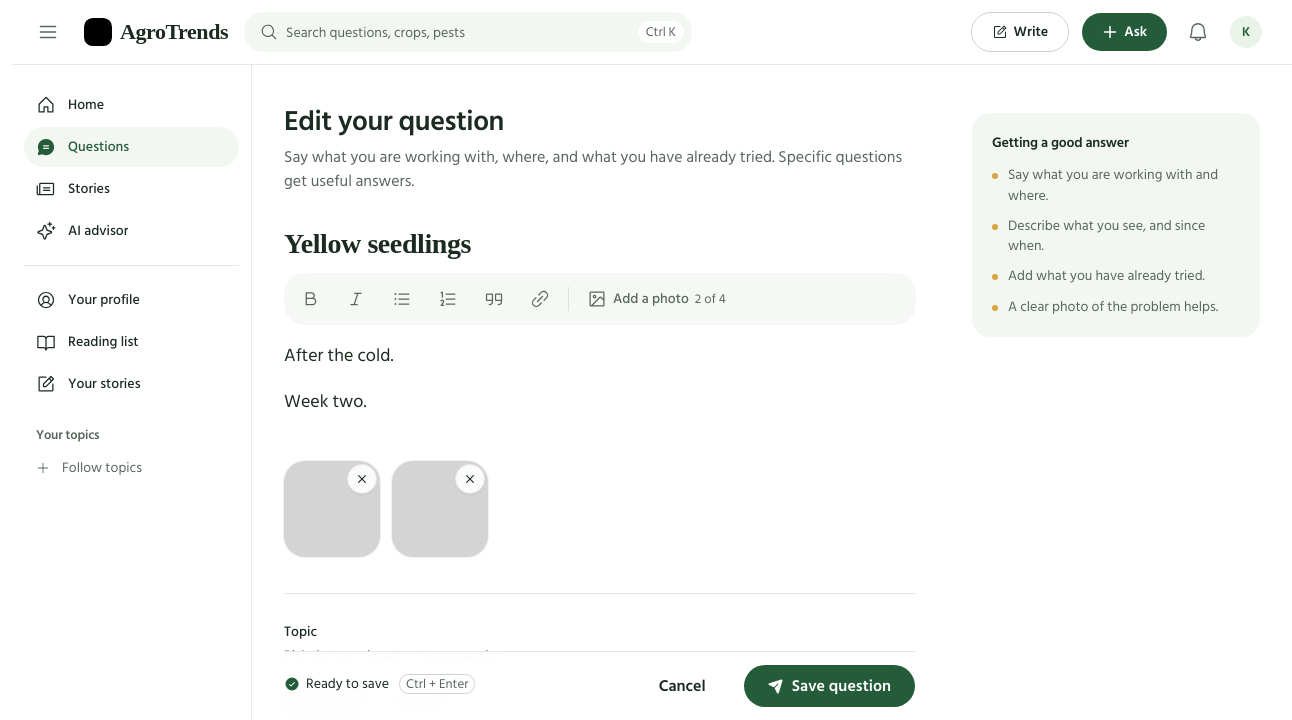
Test: editing keeps untouched tags and photos by leaving them out, and sends changed ones
This screenshot has width=1292, height=720.
Click the button named "Remove photo 2" at point(470, 479), box [456,465,484,493]
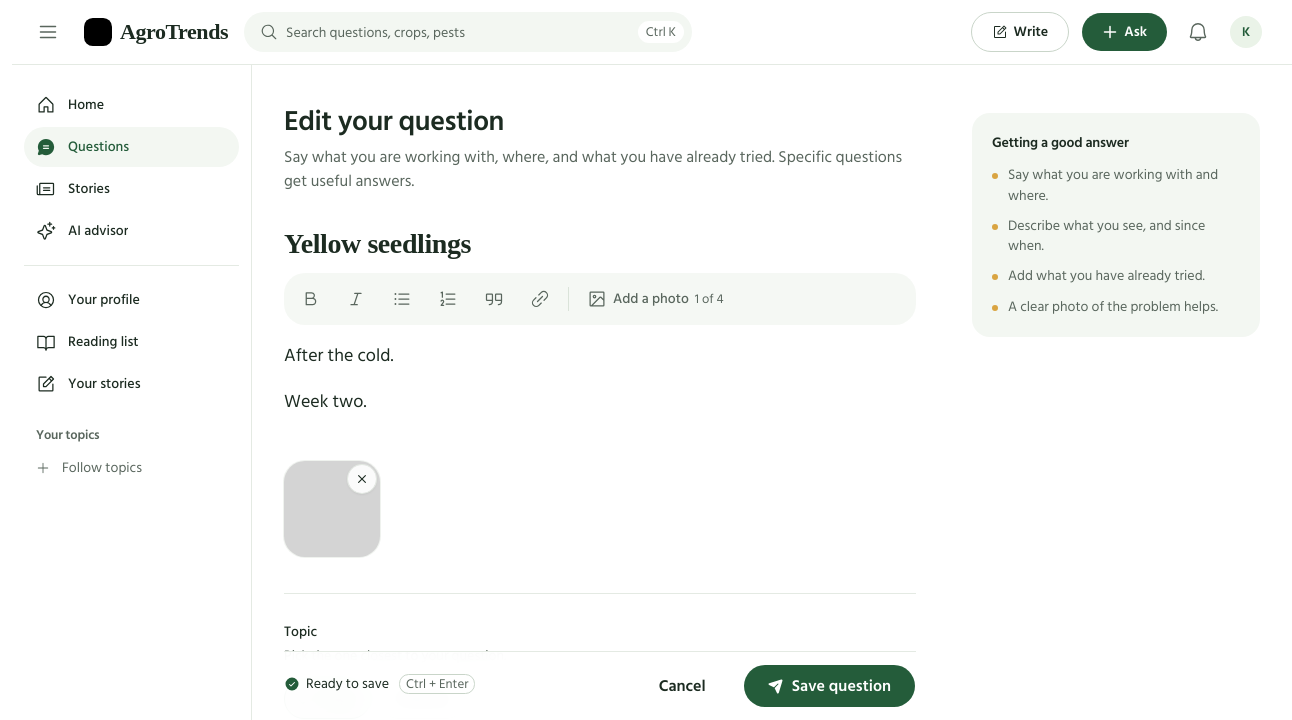
Click the button "Save question" at point(829, 686), box [743,664,916,708]
(page scrolled)
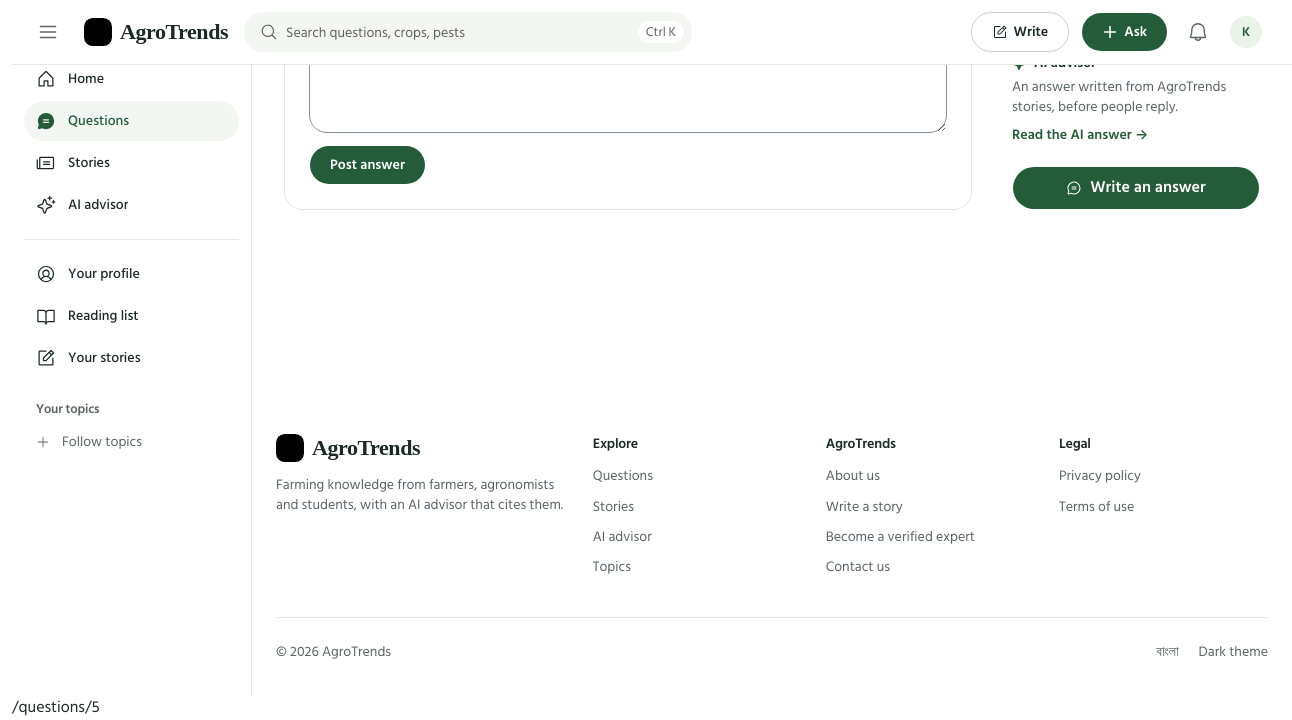
Result: the text with test id "path" reads "/questions/5" at [12,694,100,719]
